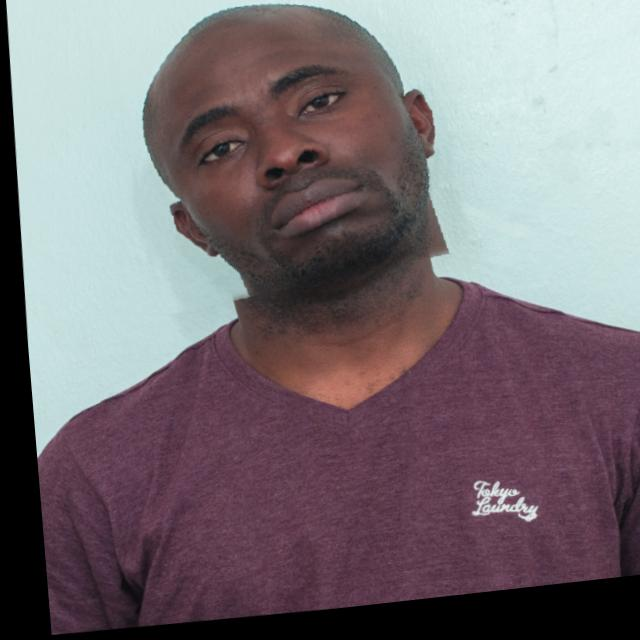sad: (108, 0, 462, 316)
